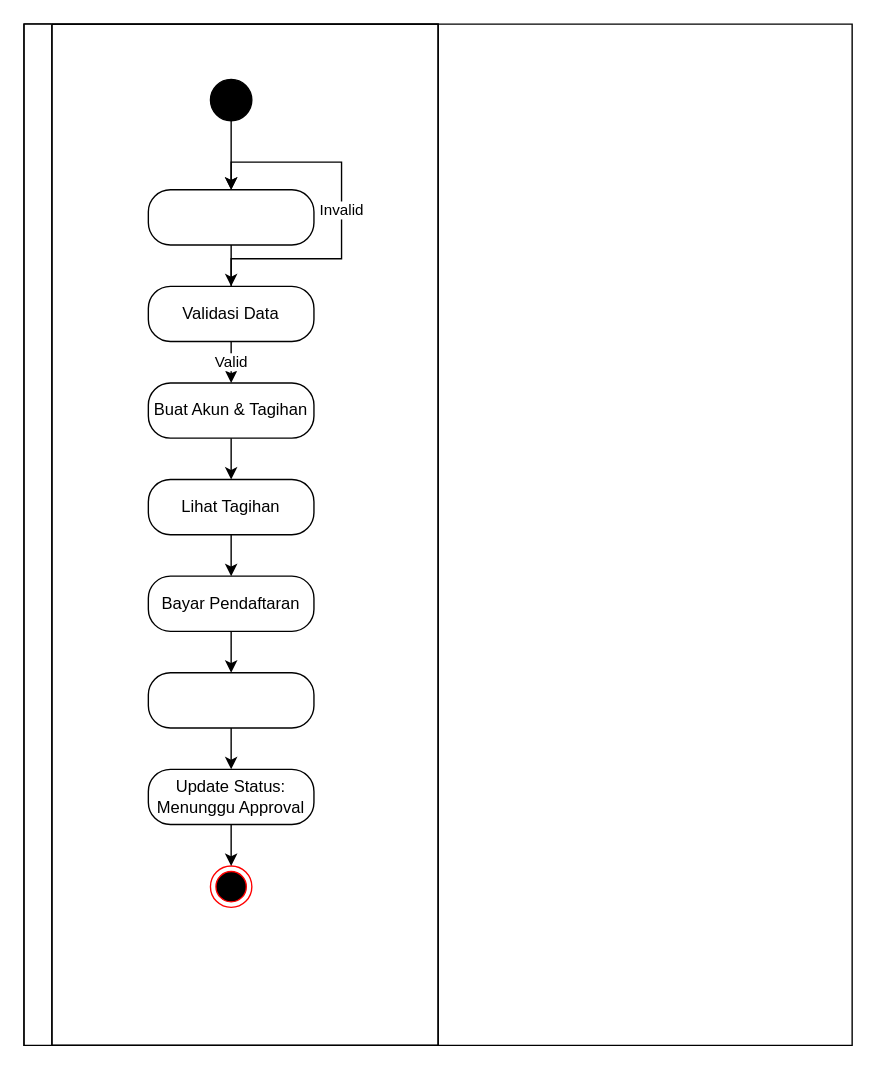
Image size: 876x1070. Some labels were removed from this diagram. The shapes that lost their labels are listed below. From the top down, each one's box as (x1, y1, x2, y2) in pixels, then its label:
(147, 188, 314, 245): Isi Formulir Pendaftaran
(23, 23, 438, 1045): System
(147, 671, 314, 728): Verifikasi Pembayaran
